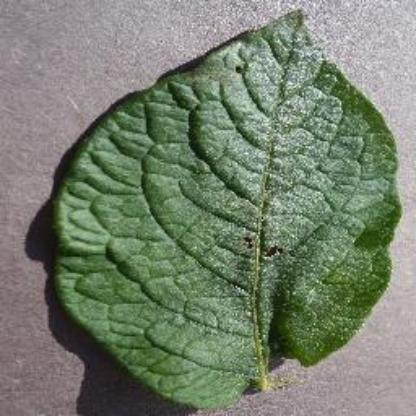Healthy-plant: (48, 10, 404, 410)
